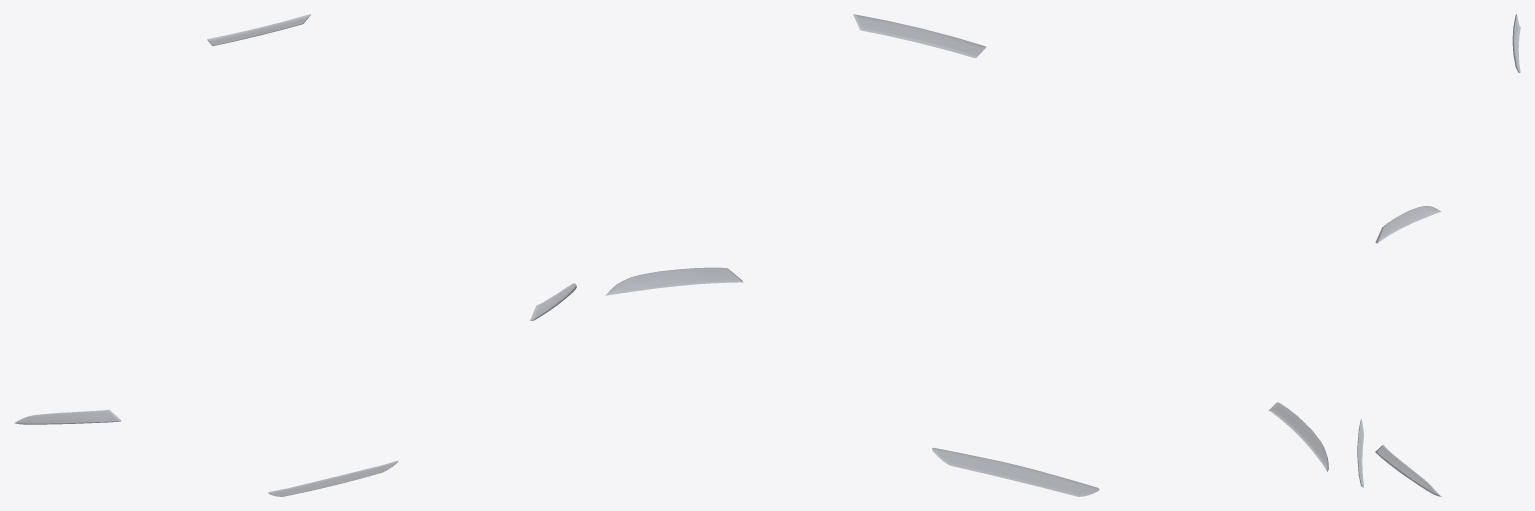
Rendered from glasss.glb.
The picture shows the model from 3 angles, left to right: view 1: azimuth 30°, elevation 25°; view 2: azimuth 150°, elevation 25°; view 3: azimuth 270°, elevation 25°; orthographic projection. The views are drawn at different scales.
Parts seen in each view (by area): view 1: glasss; view 2: glasss; view 3: glasss.
Part boxes in pixels (box(x1,y1,x2,y2)): glasss: box(14, 14, 576, 496); glasss: box(606, 14, 1328, 496); glasss: box(1357, 14, 1520, 496).
Bounding box in the file's own units: 1.45 × 0.9968 × 0.3499.
